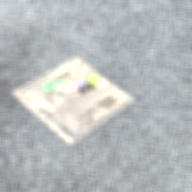러키펜정: (97, 80, 109, 89)
씨엠지세파클러캡슐: (67, 81, 90, 90)
에르도캡슐: (43, 79, 65, 92)
휴티렌정: (89, 75, 99, 88)
